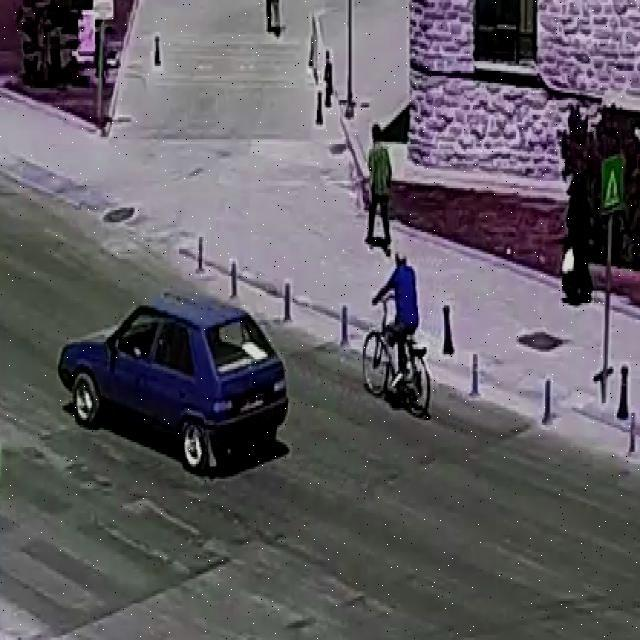Car: (58, 288, 291, 473)
Cycle: (362, 294, 433, 420)
